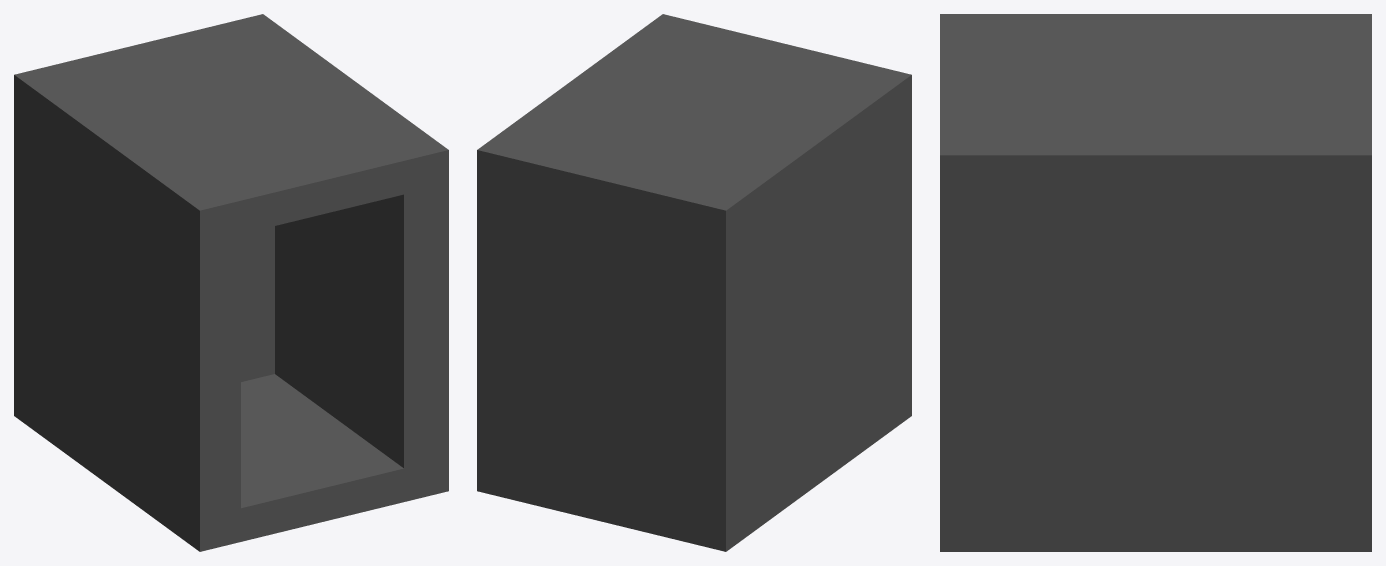
The model's file is Itr_Desk_Cabinet_Body_04.FBX.
3 views of the same model, side by side, from view 1: azimuth 30°, elevation 25°; view 2: azimuth 150°, elevation 25°; view 3: azimuth 270°, elevation 25° (orthographic). The views are drawn at different scales.
Parts seen in each view (by area): view 1: Itr_Desk_Cabinet_Body_04; view 2: Itr_Desk_Cabinet_Body_04; view 3: Itr_Desk_Cabinet_Body_04.
Boxes of the visible parts, left/top/right/bottom form: Itr_Desk_Cabinet_Body_04: left=14, top=14, right=448, bottom=551; Itr_Desk_Cabinet_Body_04: left=477, top=14, right=911, bottom=551; Itr_Desk_Cabinet_Body_04: left=940, top=14, right=1371, bottom=551.
Bounding box in the file's own units: 18.22 × 23.87 × 23.55.
